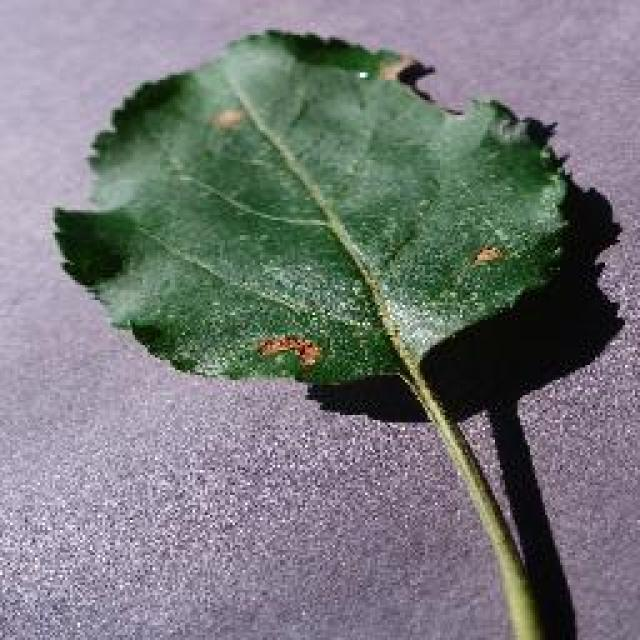Black_rot: (50, 25, 582, 637)
